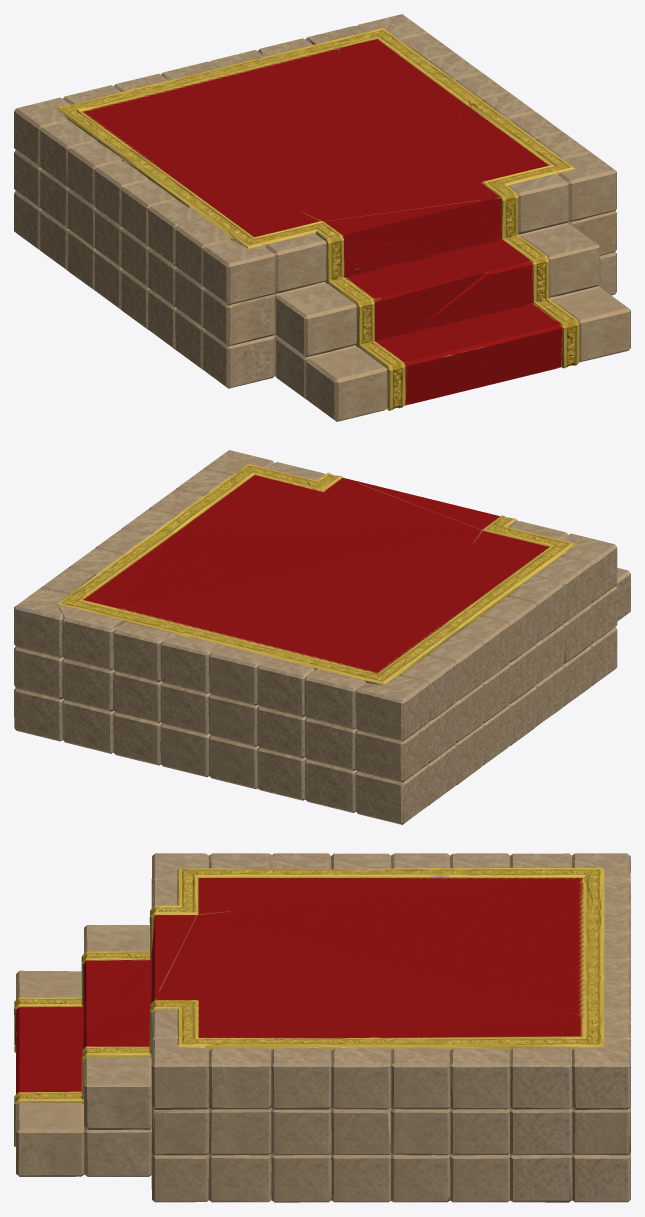
The model's file is dais.glb.
The picture shows the model from 3 angles, top to bottom: view 1: azimuth 30°, elevation 25°; view 2: azimuth 150°, elevation 25°; view 3: azimuth 270°, elevation 25°; orthographic projection. The views are drawn at different scales.
Bounding box in the file's own units: 1.55 × 0.4888 × 1.9.
Materials: 1 (1 with a texture image).
